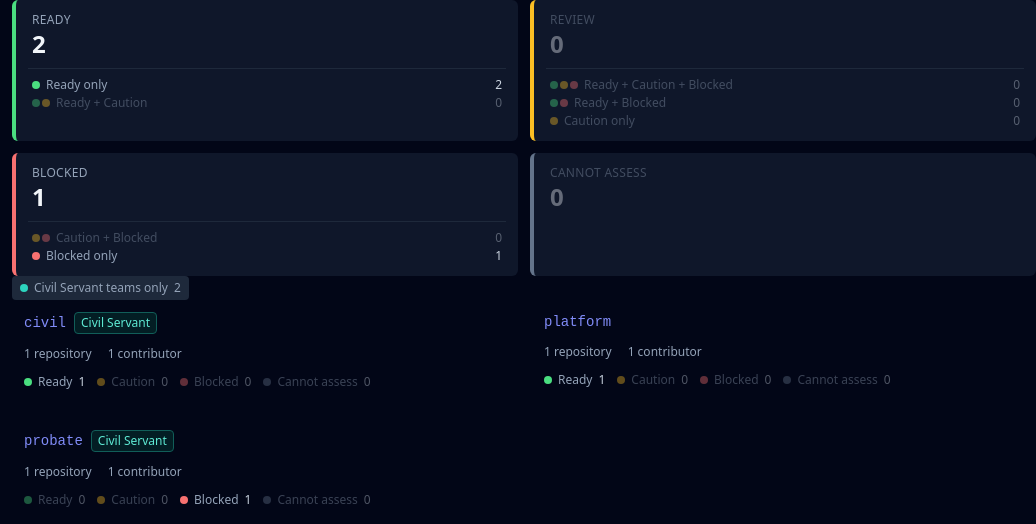
Test case: /teams › should narrow the cards and the tiles to the flagged teams
The width and height of the screenshot is (1036, 524).
Expected: the button with aria-label "Ready: 2" is shown, [28,12,506,60]
Click the button "Civil Servant teams only 2": (100, 288) [12,276,189,300]
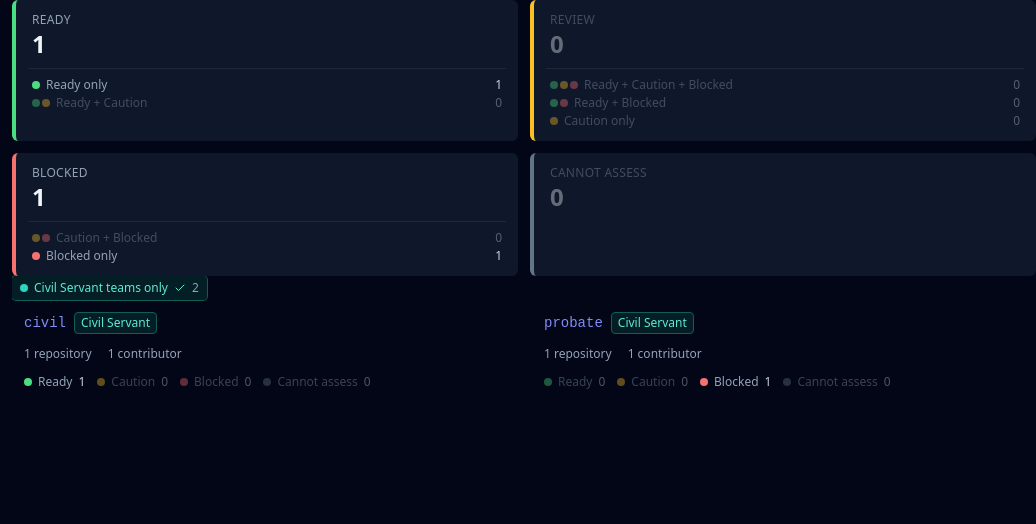
Expected: the button with aria-label "Blocked: 1" is shown, [28,165,506,213]
Expected: the button with aria-label "Ready: 1" is shown, [28,12,506,60]
